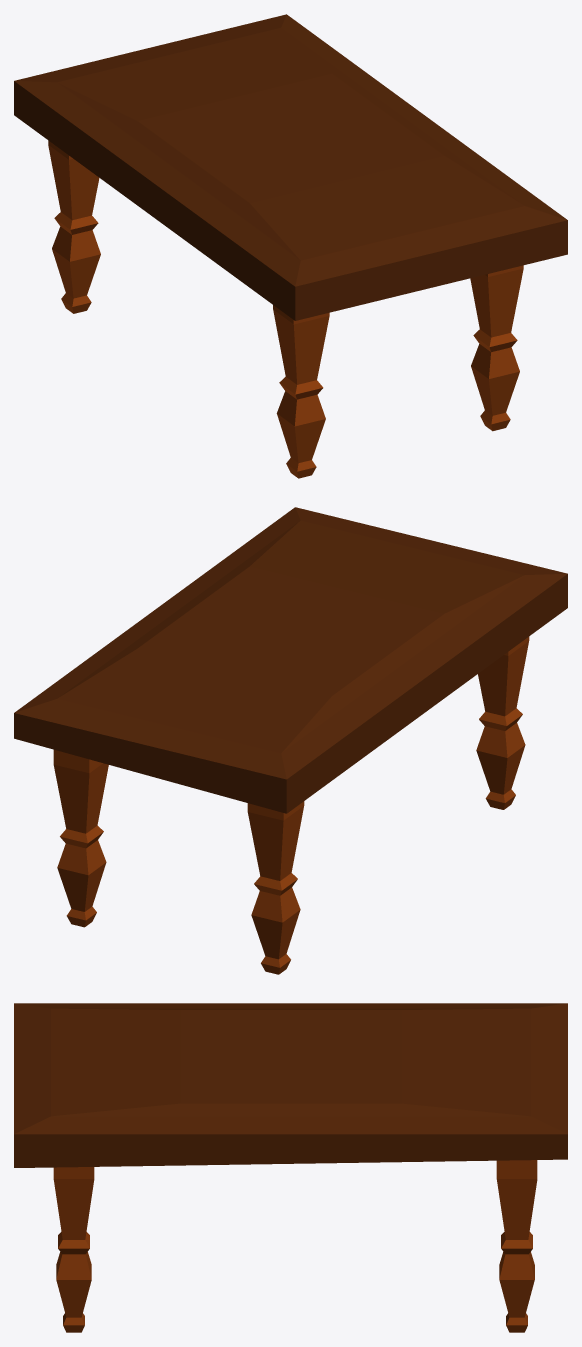
File: puzzle tafel2.fbx
3 renders of one model, top to bottom at view 1: azimuth 30°, elevation 25°; view 2: azimuth 150°, elevation 25°; view 3: azimuth 270°, elevation 25°, orthographic.
Parts seen in each view (by area): view 1: polySurface1; view 2: polySurface1; view 3: polySurface1.
Part boxes in pixels (x1=…): polySurface1: x1=14, y1=14, x2=567, y2=478; polySurface1: x1=14, y1=507, x2=567, y2=974; polySurface1: x1=14, y1=1003, x2=567, y2=1332.
Size of the model in its own units: 13.96 by 11.29 by 24.93.
